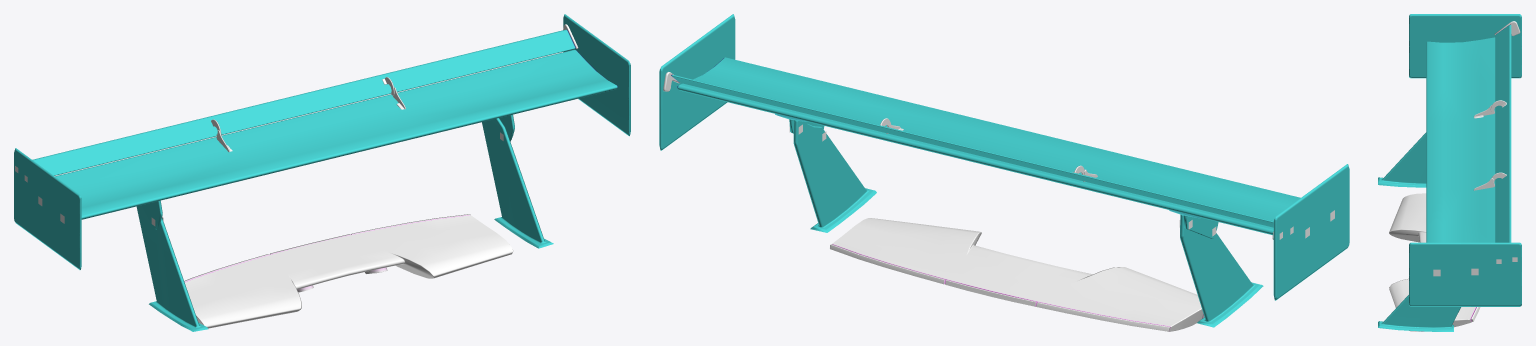
File: Car_Ford_GT_2017_Spoiler_SetDD.fbx
3 views of the same model, side by side, from view 1: azimuth 30°, elevation 25°; view 2: azimuth 150°, elevation 25°; view 3: azimuth 270°, elevation 25° (orthographic). The views are drawn at different scales.
Visible parts, largest first — view 1: Spoiler 6; view 2: Spoiler 6; view 3: Spoiler 6.
Boxes of the visible parts, <box> form: Spoiler 6: <box>14,14,630,331</box>; Spoiler 6: <box>659,14,1349,331</box>; Spoiler 6: <box>1378,14,1521,331</box>.
Bounding box in the file's own units: 2.02 × 0.5812 × 0.5328.
